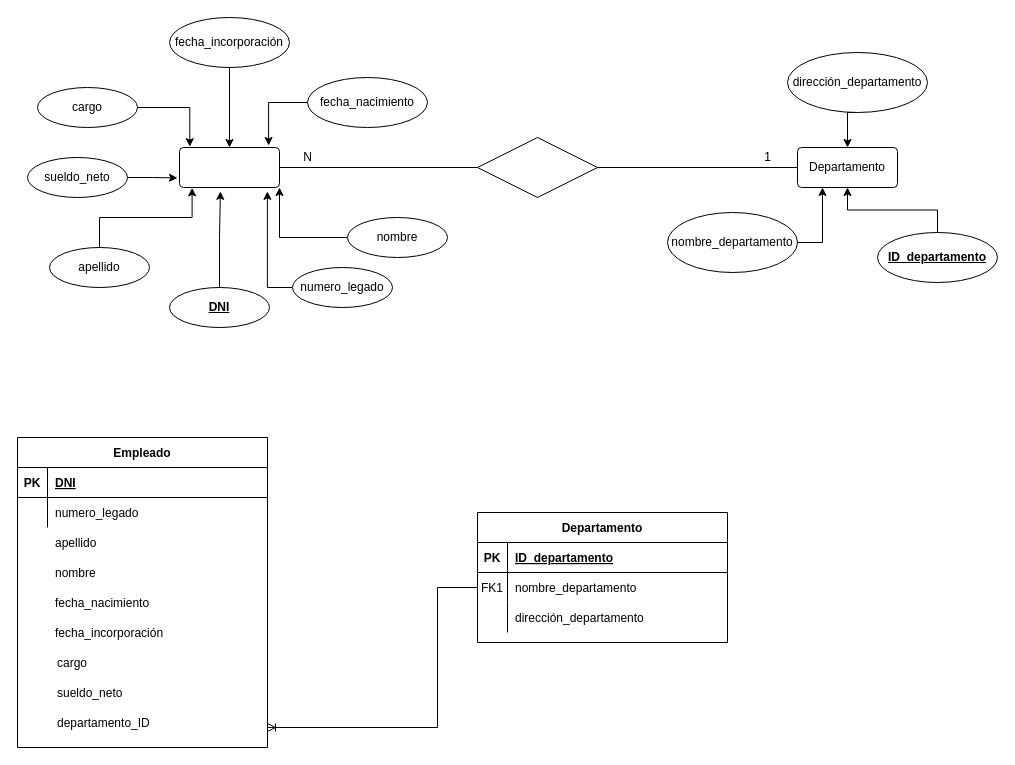
This 1015x765 diagram has some shape labels left out. Here are the shapes that lost their labels. From the top down, the centre of each, then its label:
At (x=229, y=167): "Empleados".
At (x=537, y=167): "Vivir".
